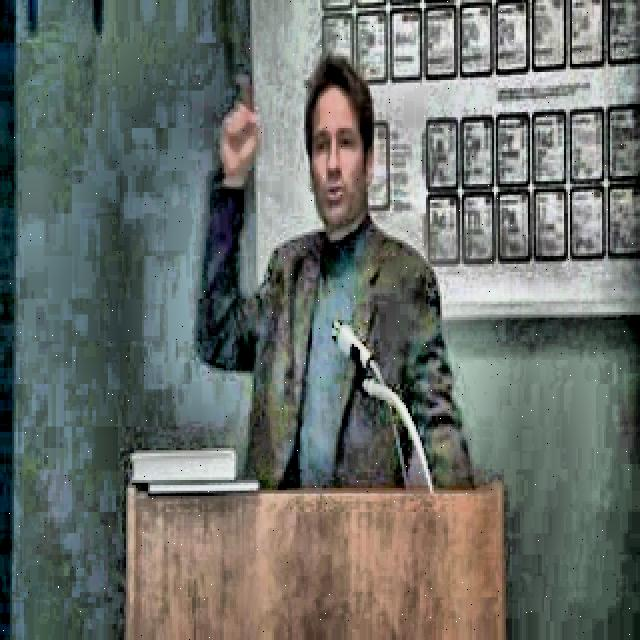T: (184, 48, 477, 494)
